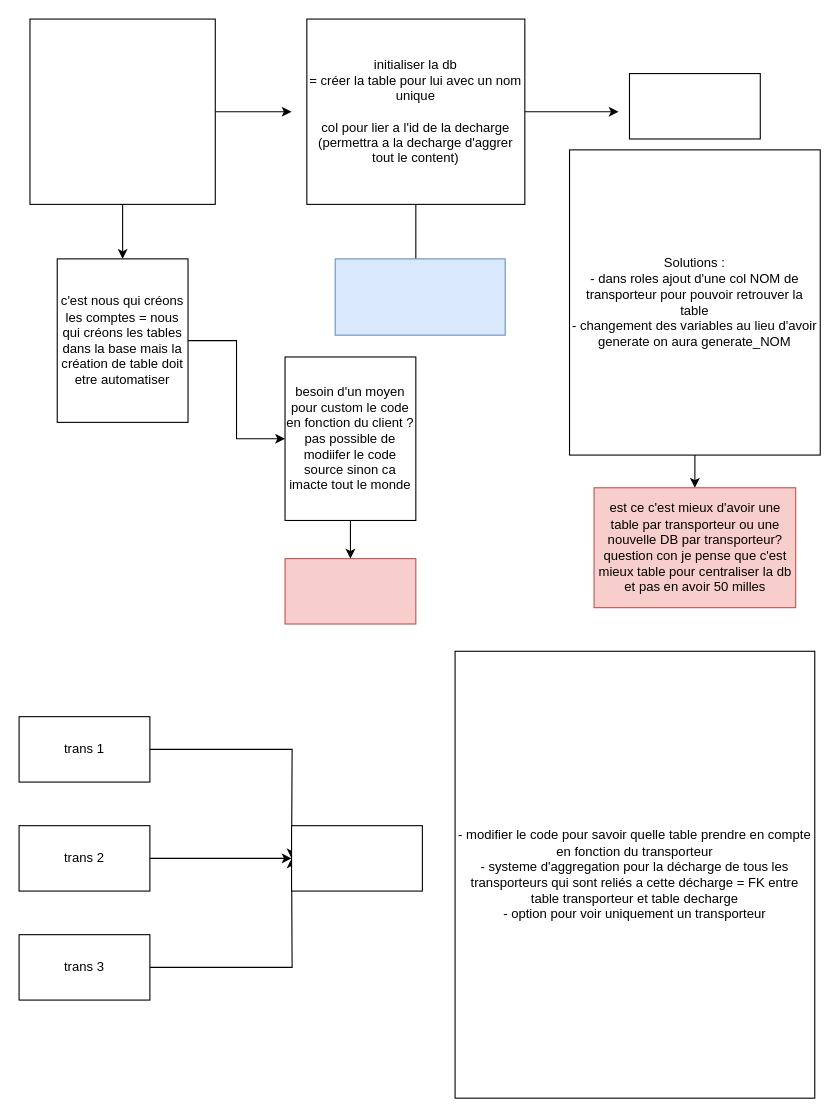
This 839x1117 diagram has some shape labels left out. Here are the shapes that lost their labels. From the top down, the centre of each, then its label:
At point 122,111: "transporteur inscription".
At point 694,105: "accès total a la partie logiqr transporteur".
At point 419,296: "besoin d'un token pour lier le compte a la db (jwt) ?".
At point 350,591: "chaque client = une branche github ?".
At point 356,858: "décharge".
